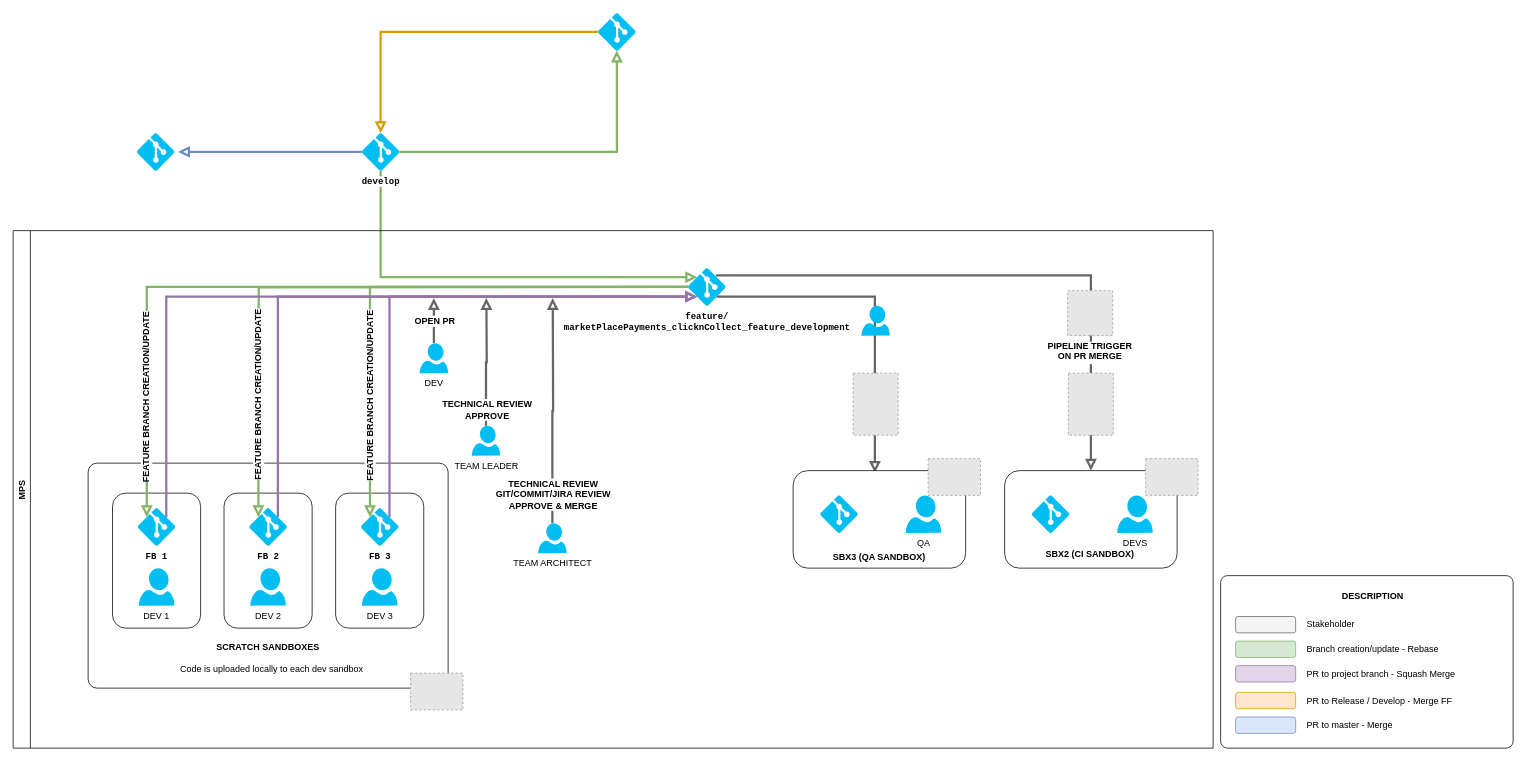
Some shapes in this 1526 by 783 pixel diagram are drawn without their labels. Grey dashed boxes stand in for pictures. The shapes that lost their labels are listed below. From the top down, each one's box as (x1, y1, x2, y2) in pixels, then its label:
(598, 13, 635, 50): release/{squad}-sprint{x}
(136, 133, 174, 170): master
(861, 305, 890, 335): RELEASE MANAGER
